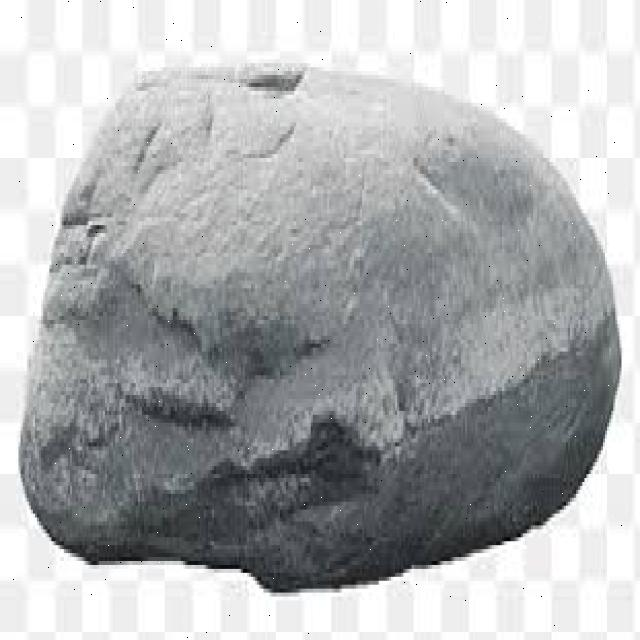Metamorphic: (19, 39, 624, 584)
